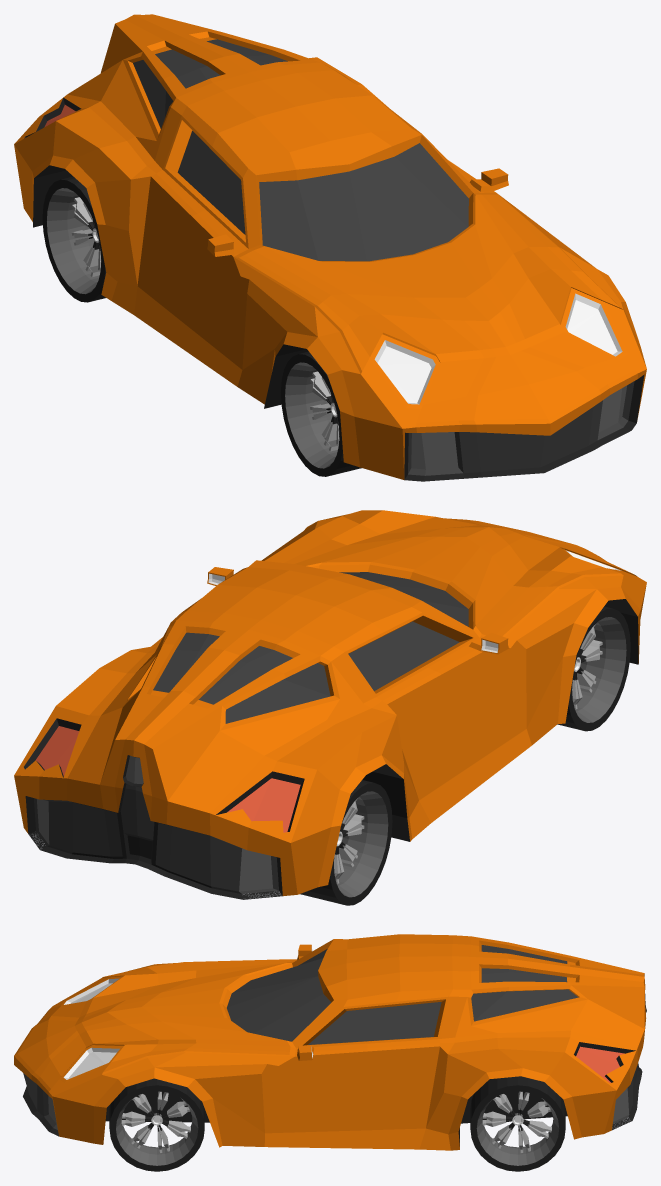
File: spadacodatronca.fbx
3 views of the same model, one above another, from view 1: azimuth 30°, elevation 25°; view 2: azimuth 150°, elevation 25°; view 3: azimuth 270°, elevation 25° (orthographic). The views are drawn at different scales.
Visible parts, largest first — view 1: OrangeBody, FrontRight, BackRight; view 2: OrangeBody, BackRight, FrontRight; view 3: OrangeBody, BackLeft, FrontLeft.
Part boxes in pixels (x1=…): OrangeBody: x1=14, y1=14, x2=646, y2=481; FrontRight: x1=280, y1=351, x2=361, y2=476; BackRight: x1=42, y1=176, x2=106, y2=302; OrangeBody: x1=14, y1=510, x2=646, y2=899; BackRight: x1=300, y1=780, x2=392, y2=905; FrontRight: x1=557, y1=606, x2=630, y2=731; OrangeBody: x1=14, y1=934, x2=646, y2=1150; BackLeft: x1=470, y1=1076, x2=565, y2=1171; FrontLeft: x1=109, y1=1078, x2=204, y2=1171.
Bounding box in the file's own units: 1.94 × 4.54 × 1.29.
